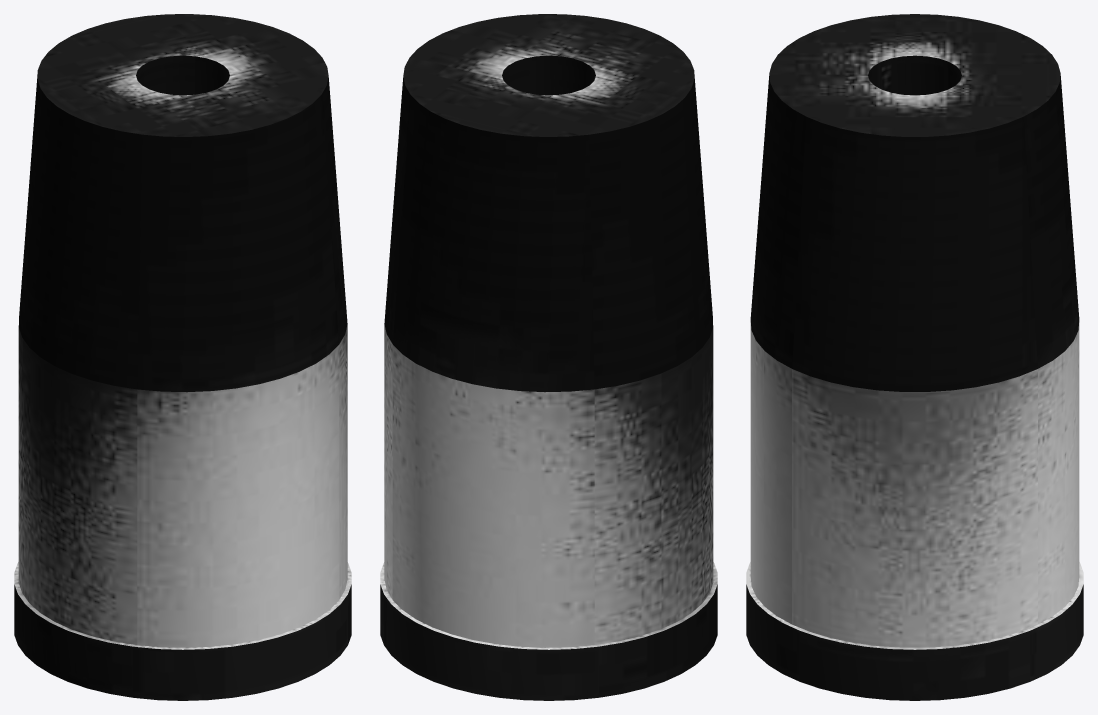
File: wmb_grey.glb
3 renders of one model, left to right at view 1: azimuth 30°, elevation 25°; view 2: azimuth 150°, elevation 25°; view 3: azimuth 270°, elevation 25°, orthographic.
Parts seen in each view (by area): view 1: Asset3DLoader.sceneRoot; view 2: Asset3DLoader.sceneRoot; view 3: Asset3DLoader.sceneRoot.
Part boxes in pixels (box(x1,y1,x2,y2)): Asset3DLoader.sceneRoot: box(14, 14, 351, 700); Asset3DLoader.sceneRoot: box(380, 14, 717, 700); Asset3DLoader.sceneRoot: box(746, 14, 1083, 700).
Bounding box in the file's own units: 72 × 130 × 71.8.
1 material, 1 textured.
